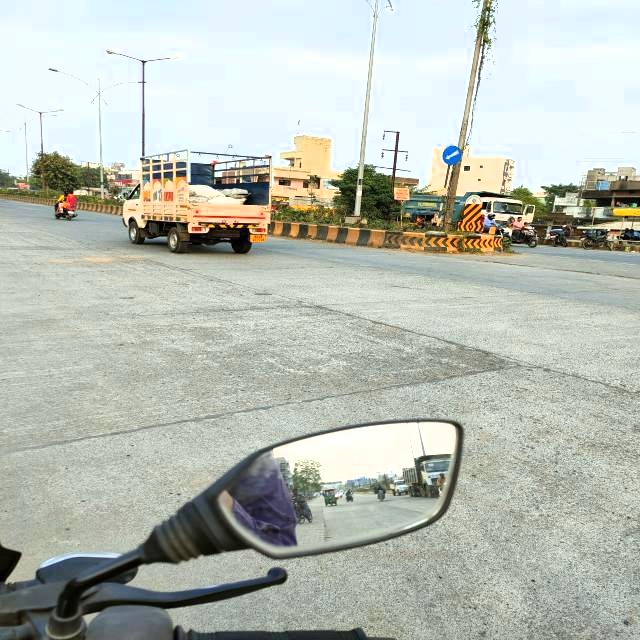R.301e: (438, 144, 468, 170)
